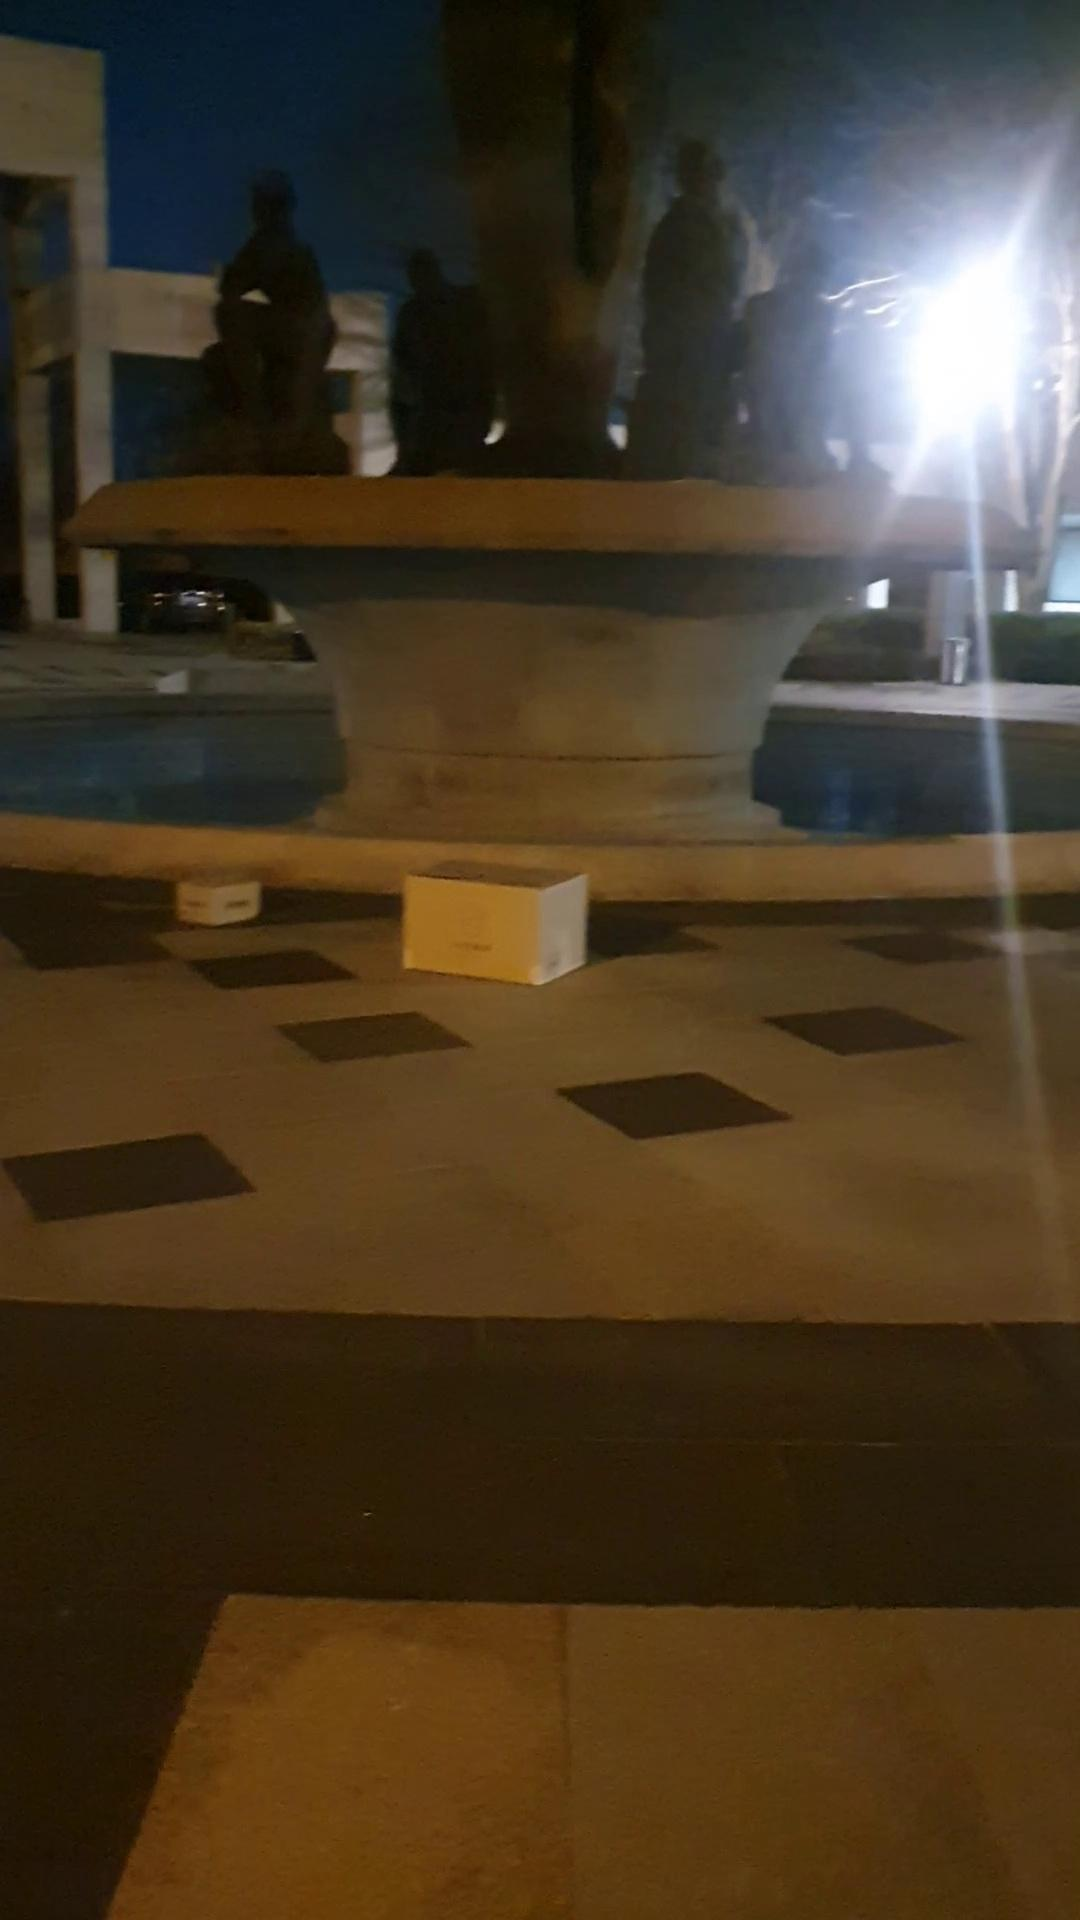Box: (393, 855, 600, 992), (173, 858, 266, 934)
